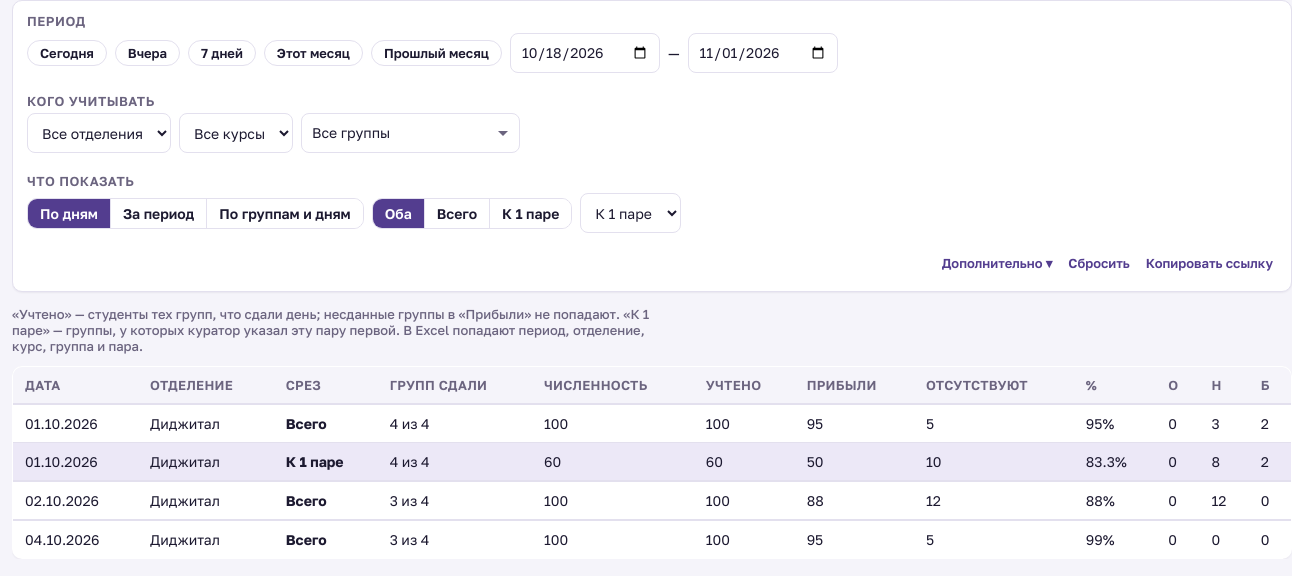
Test: AttendanceSummaryView — отбор строк на экране › срез «Только Всего» и «Только К 1 паре»
Step 1. Click the button "Всего" → (456, 213), box [424,198,489,228]
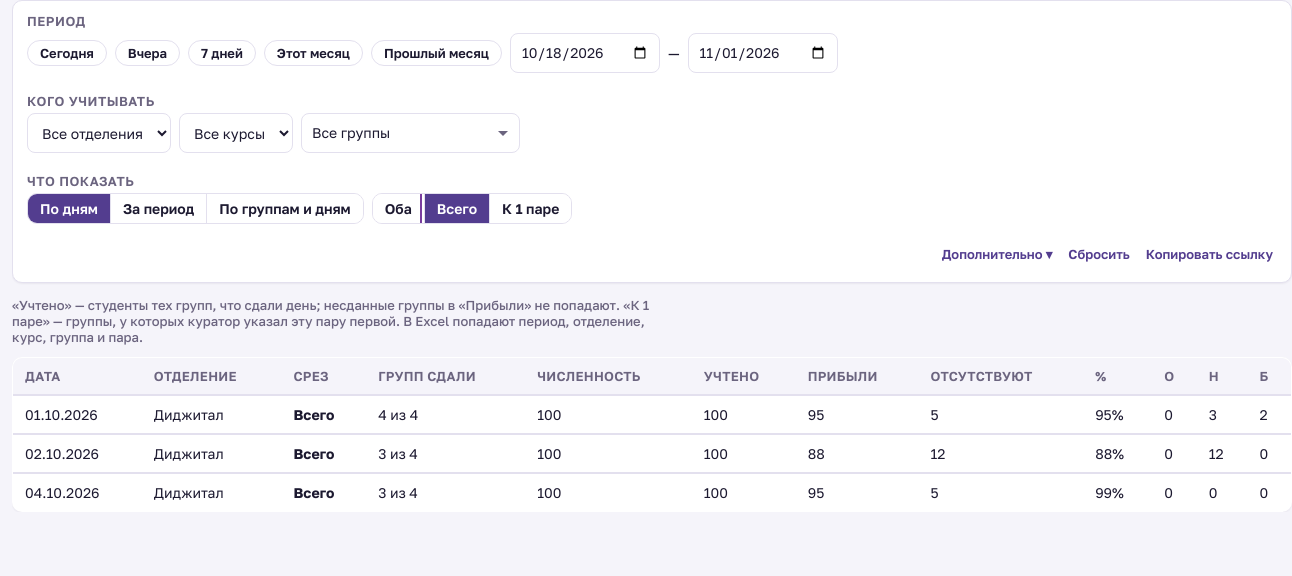
Step 2. Click the button "К 1 паре" → (530, 208), box [489,194,571,223]
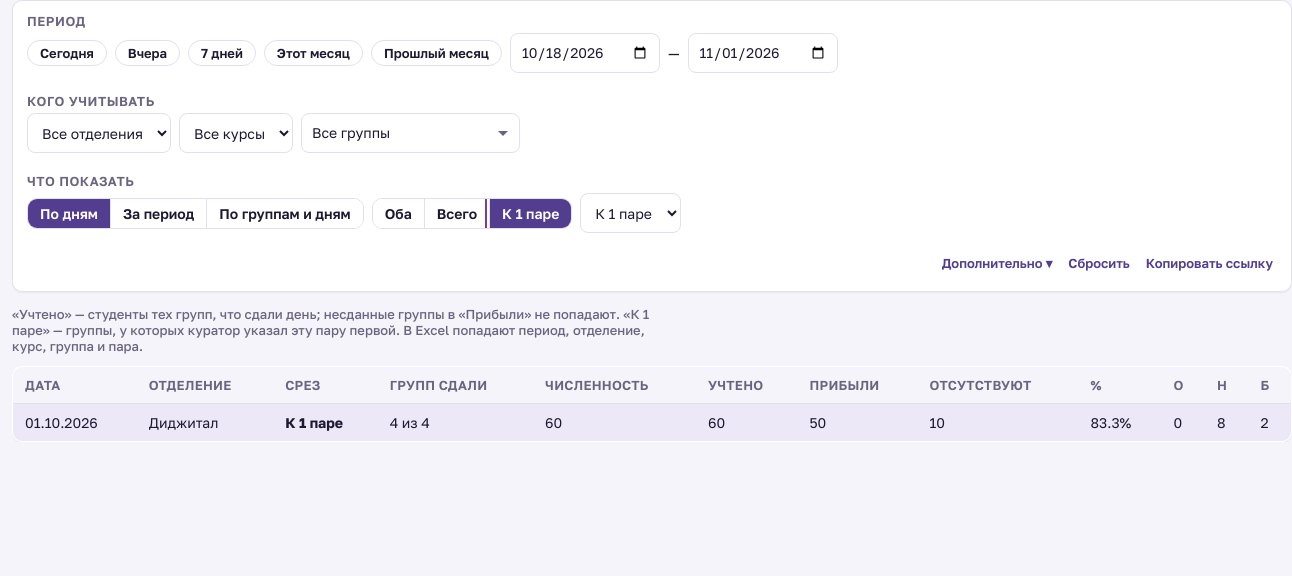
Now the text "К 1 паре" is shown once, box [285,414,343,431]
